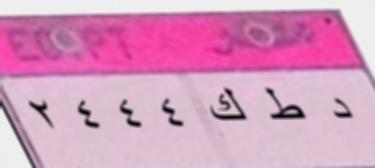2: (26, 92, 56, 139)
4: (152, 87, 188, 137), (114, 92, 144, 135), (72, 95, 103, 134)
Taa: (256, 79, 314, 128)
daal: (320, 94, 356, 132)
kaaf: (205, 85, 248, 134)
